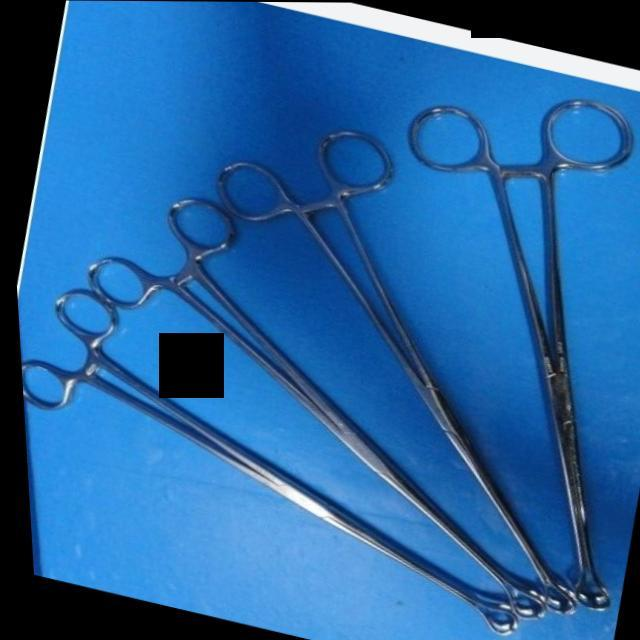Babcock Forceps: (125, 95, 640, 618), (22, 176, 610, 624), (12, 275, 566, 640), (303, 54, 640, 614)
